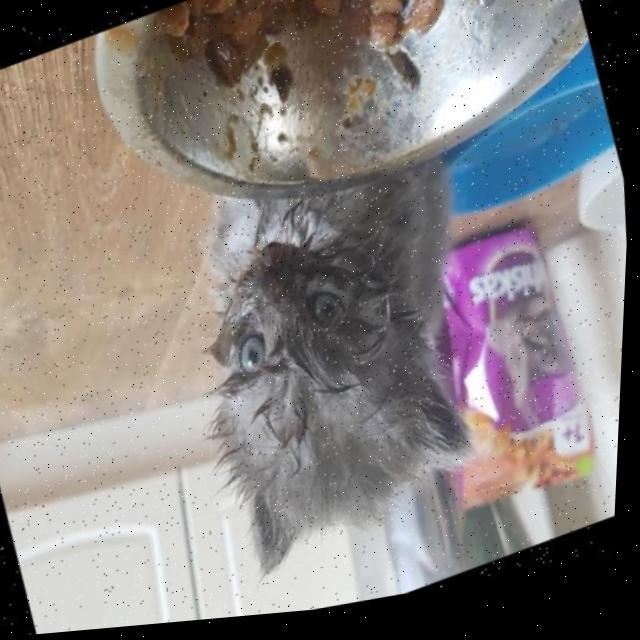Cats: (132, 99, 548, 603)
